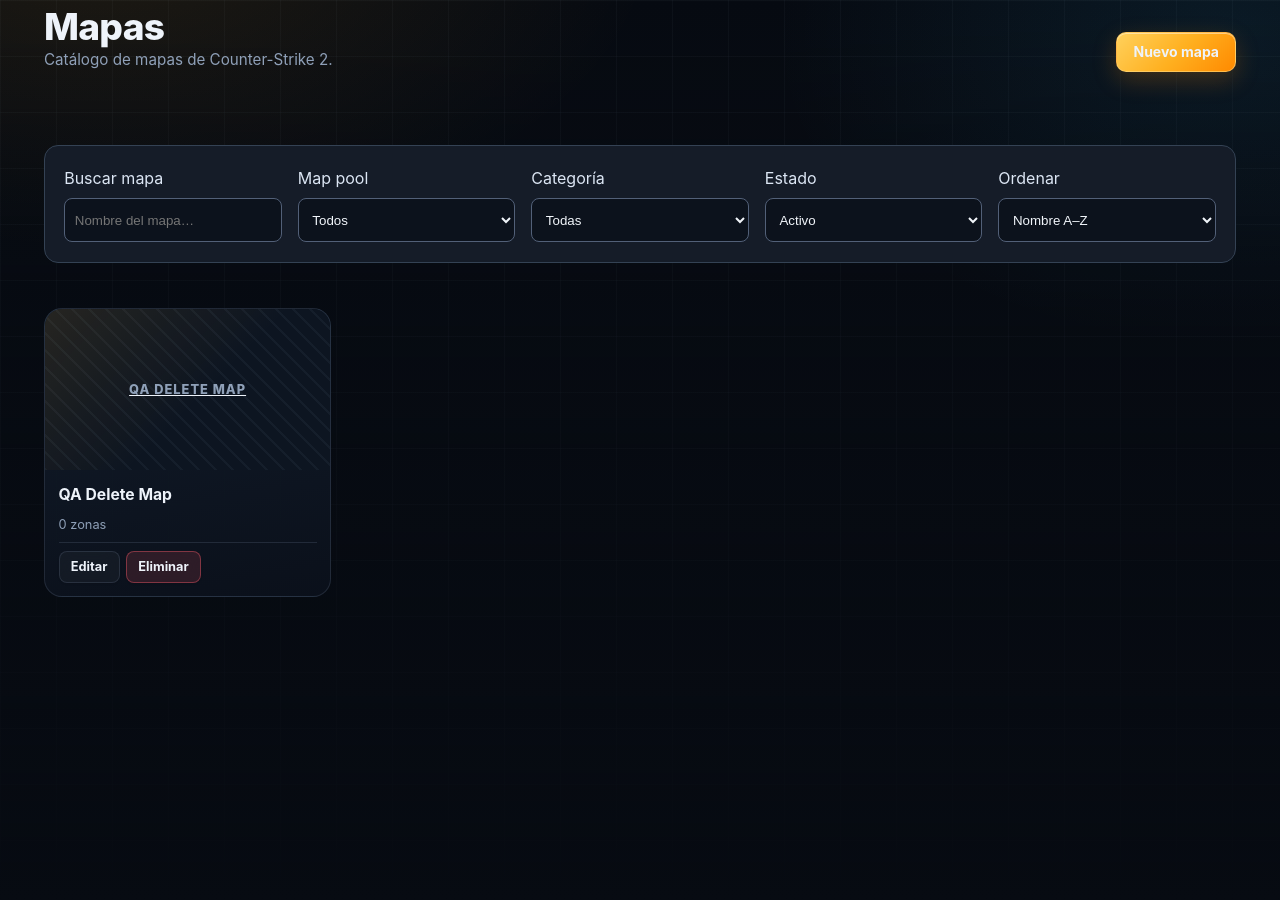
Maps page › muestra el error del backend cuando la eliminación falla
What coordinates should you click on to do the following:
click the button "Eliminar"
I would click on:
 (164, 567)
Its box is top-left (126, 551), bottom-right (201, 583).
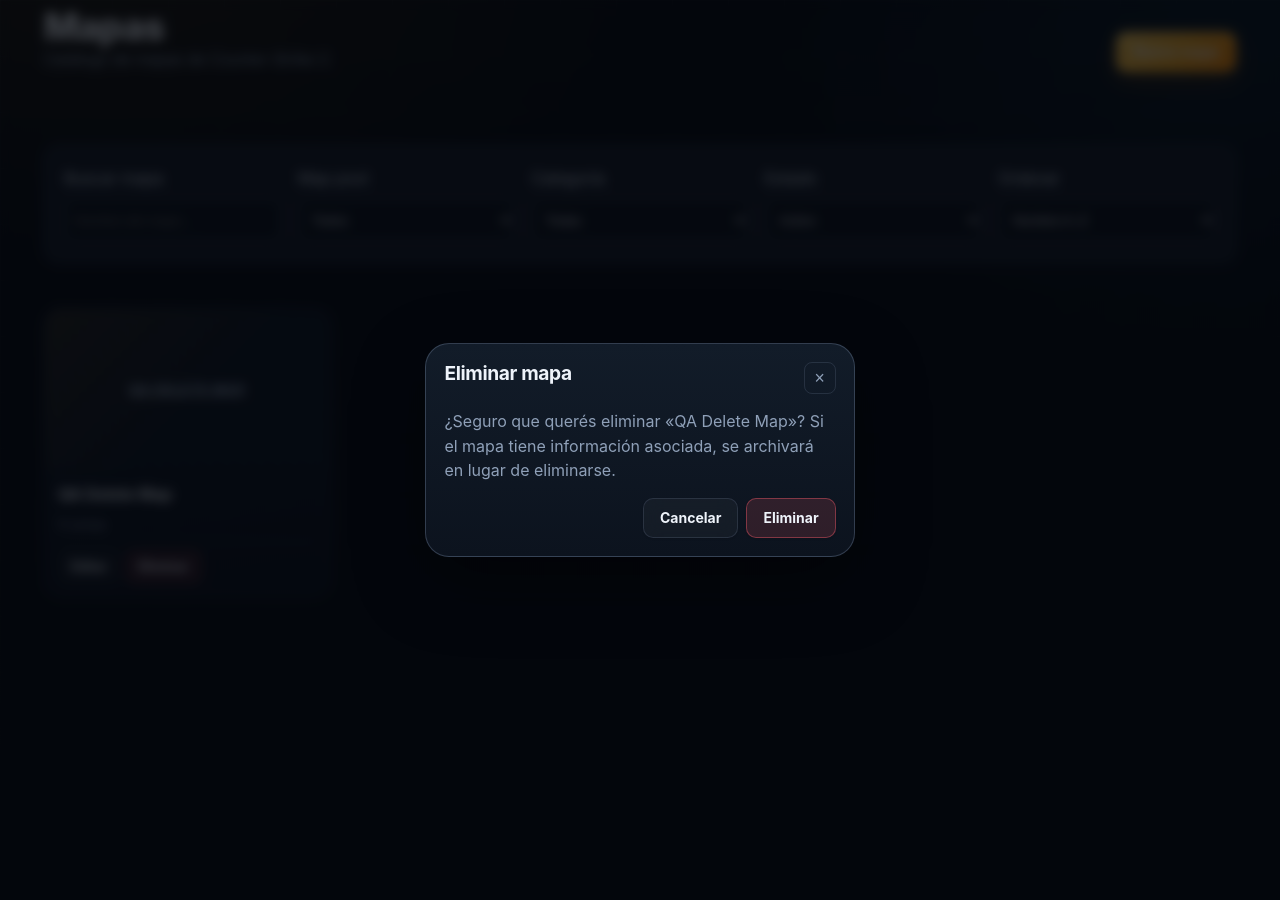
What coordinates should you click on to do the following:
click the button "Eliminar"
I would click on:
 (791, 518)
Its box is top-left (746, 498), bottom-right (836, 538).
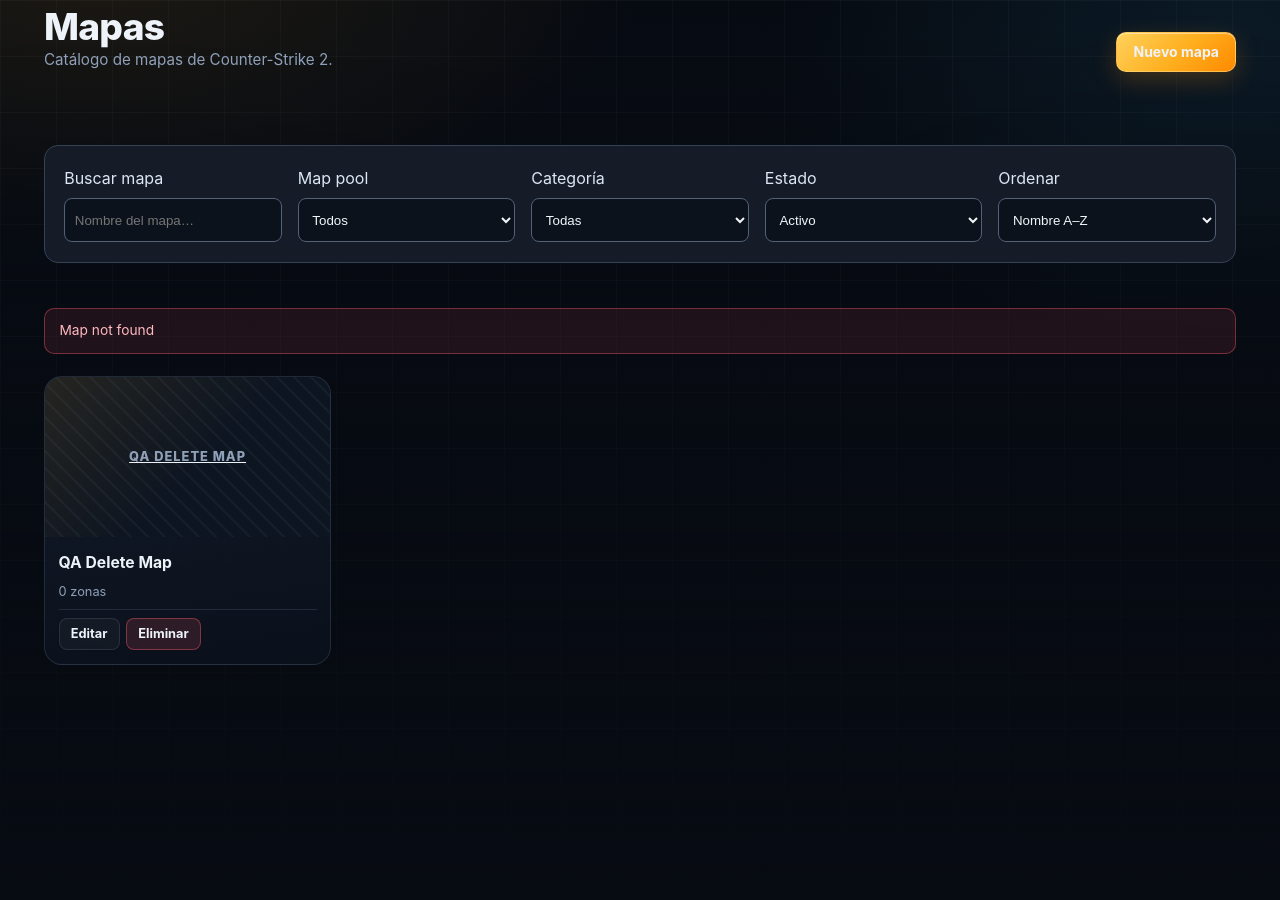
Now the text "Map not found" is shown, box top-left (44, 308), bottom-right (1236, 354)
